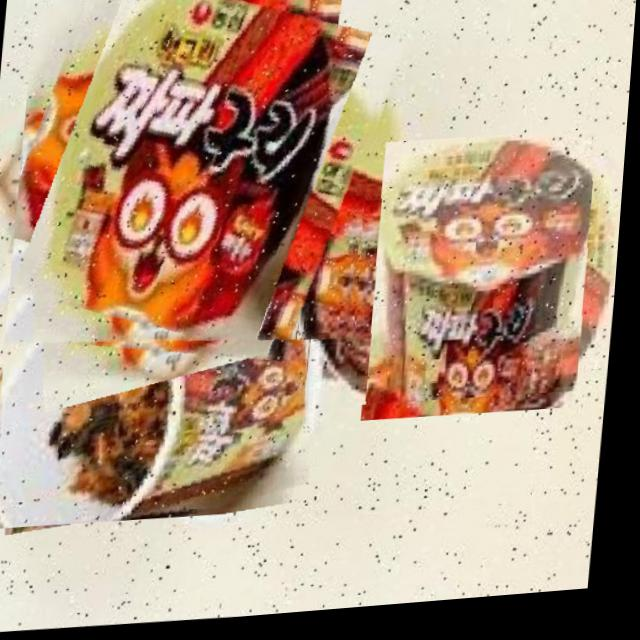Miscellaneous: (7, 0, 394, 367), (0, 266, 329, 534), (350, 151, 615, 416)
